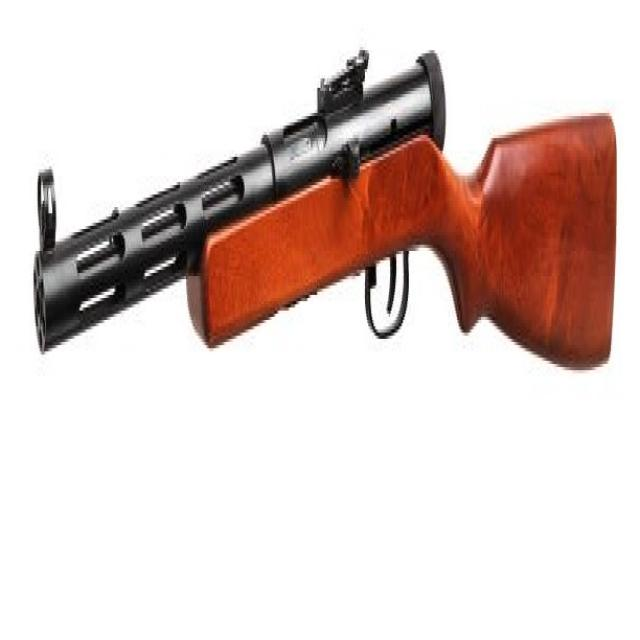rifle: (26, 39, 625, 409)
